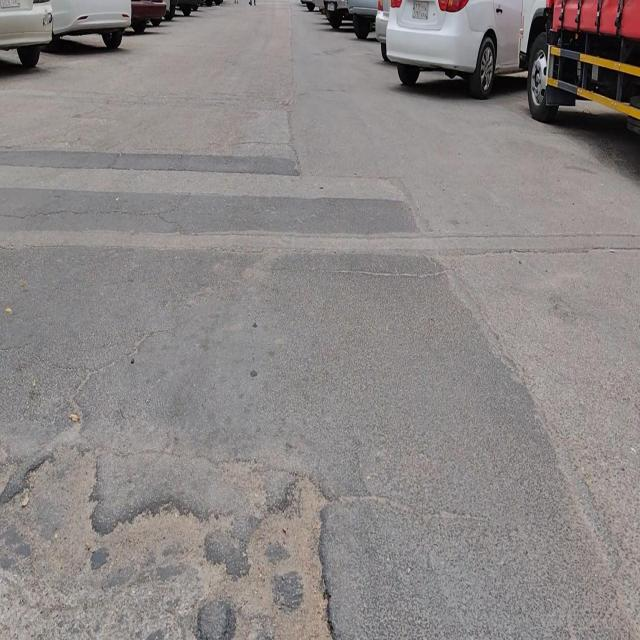Pothole: (200, 471, 338, 635)
